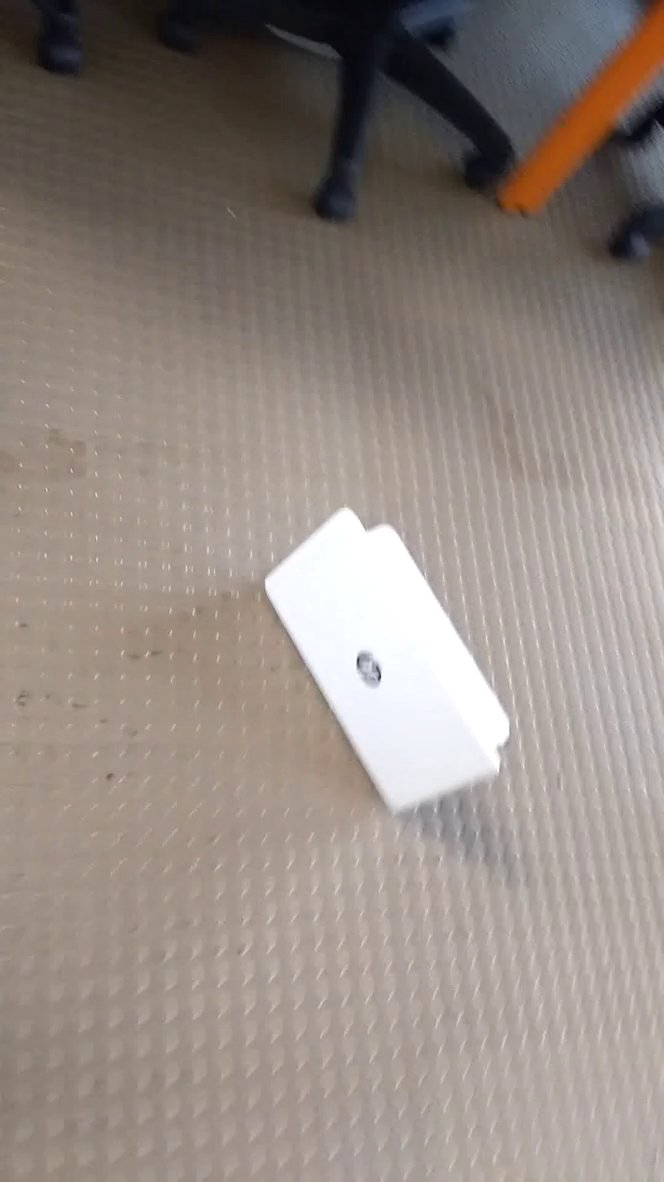laptop: (260, 500, 524, 825)
